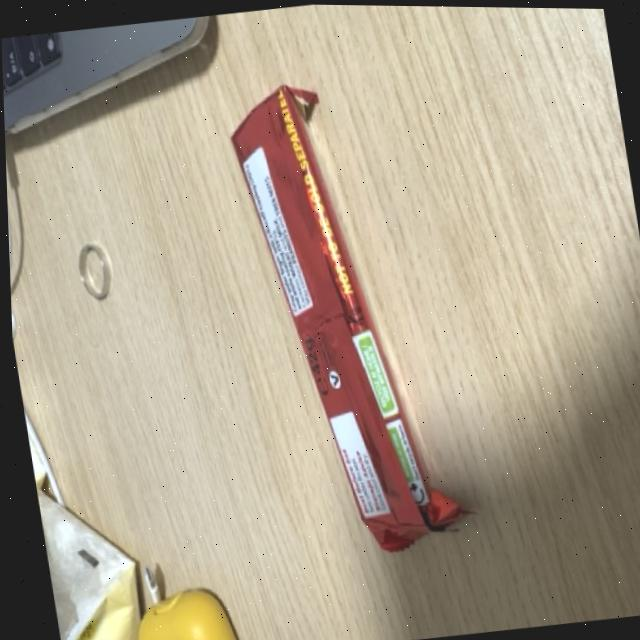chocolate: (207, 60, 479, 579)
